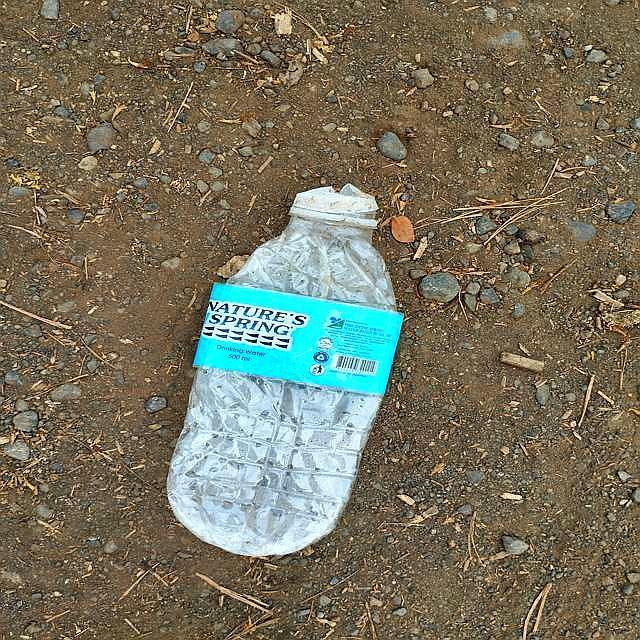Non-biodegradable: (167, 177, 407, 563)
